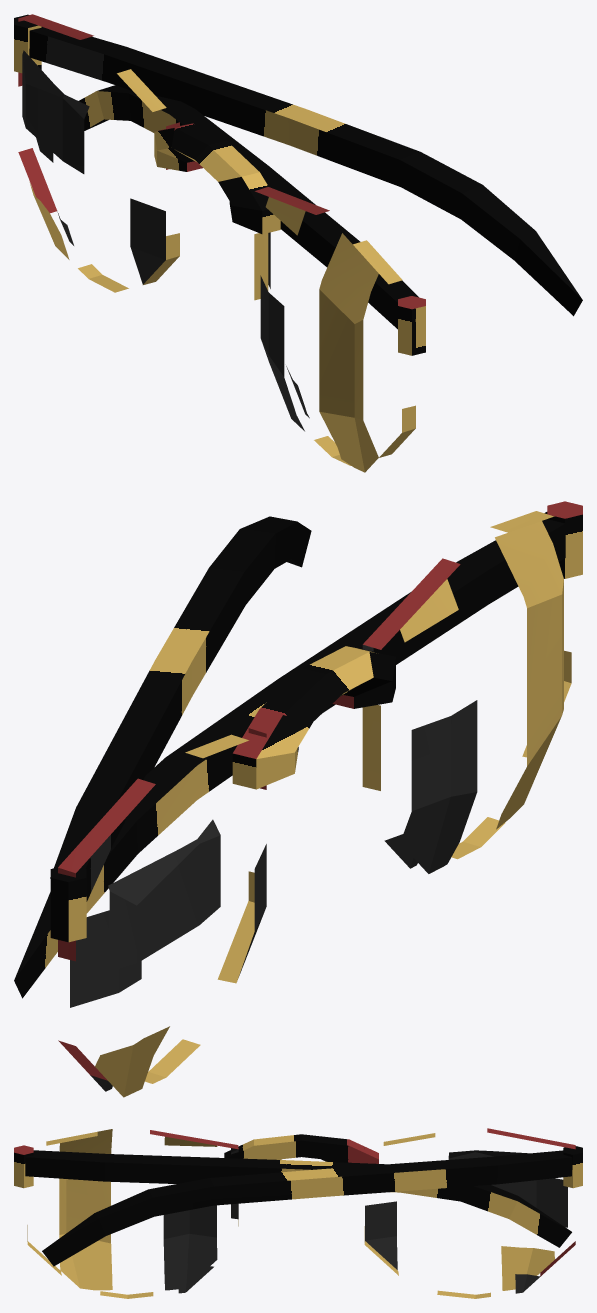
Rendered from sunglasses.fbx.
The picture shows the model from 3 angles, top to bottom: view 1: azimuth 30°, elevation 25°; view 2: azimuth 150°, elevation 25°; view 3: azimuth 270°, elevation 25°; orthographic projection. The views are drawn at different scales.
Visible parts, largest first — view 1: Sunglasses_Frame, Sunglasses; view 2: Sunglasses_Frame, Sunglasses; view 3: Sunglasses_Frame, Sunglasses.
Part boxes in pixels (x1,y1,x2,y2): Sunglasses_Frame: [14, 14, 582, 355]; Sunglasses: [18, 14, 415, 472]; Sunglasses_Frame: [14, 501, 582, 998]; Sunglasses: [58, 511, 571, 1097]; Sunglasses_Frame: [14, 1134, 582, 1266]; Sunglasses: [27, 1128, 575, 1298].
Bounding box in the file's own units: 6.52 × 6.81 × 20.75.
